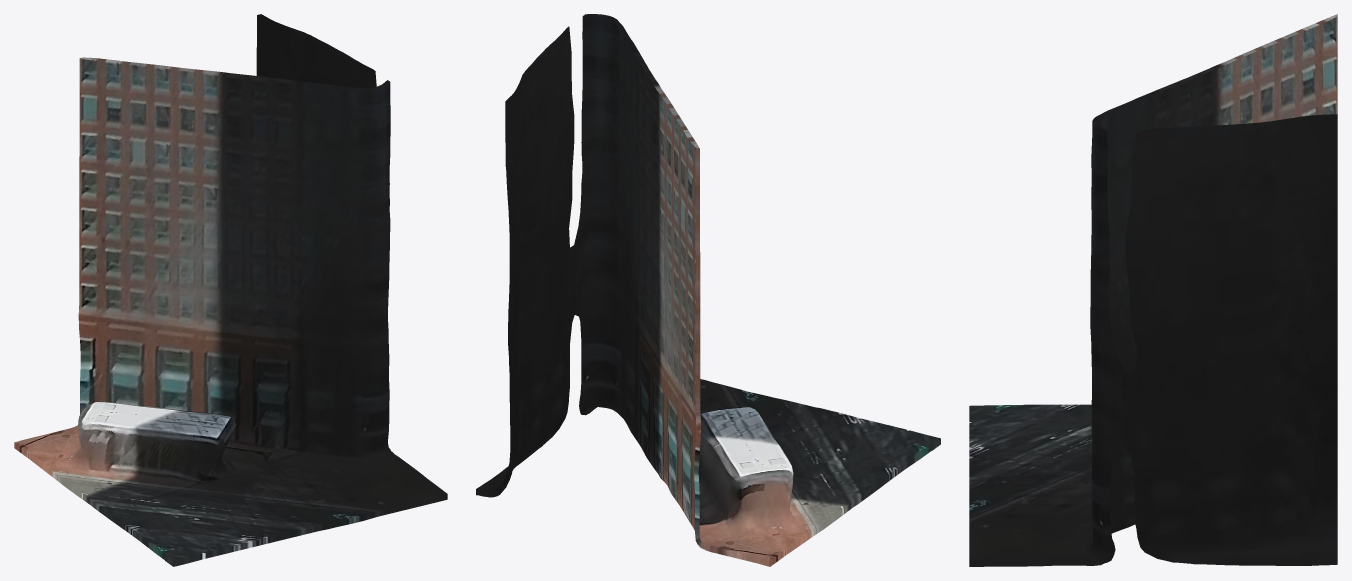
Rendered from z20-167778-405232-h0-yup-uvflip-v3-world.glb.
3 renders of one model, left to right at view 1: azimuth 30°, elevation 25°; view 2: azimuth 150°, elevation 25°; view 3: azimuth 270°, elevation 25°, orthographic. The views are drawn at different scales.
Size of the model in its own units: 30.16 by 39.56 by 30.32.
1 material, 1 textured.
